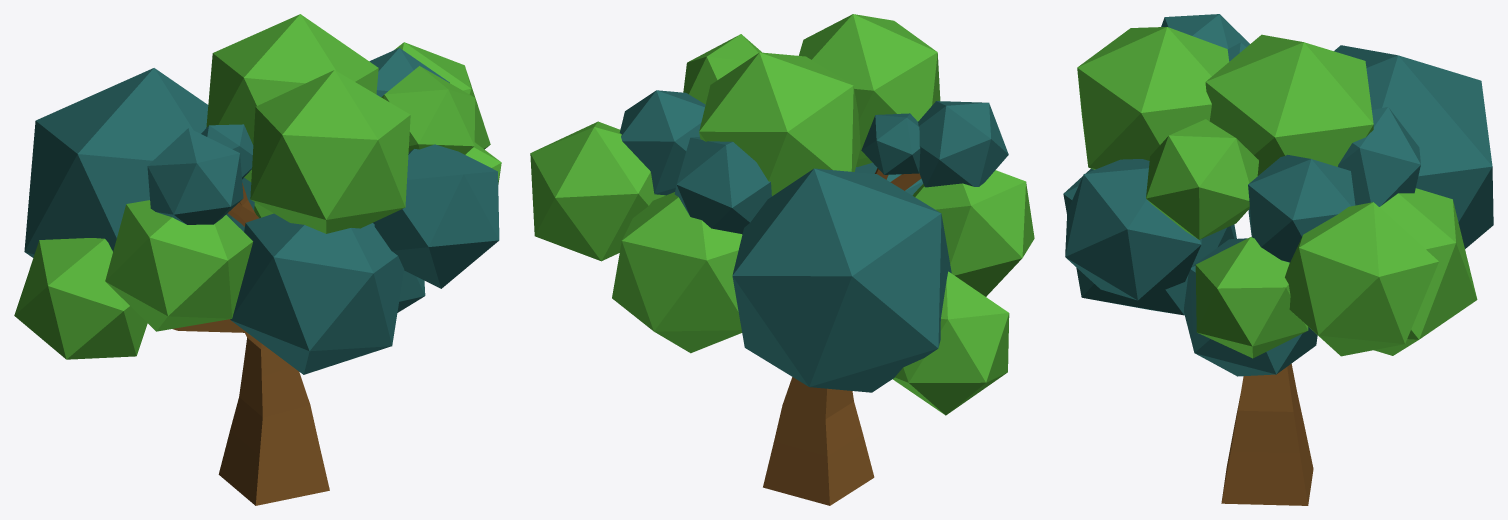
Rendered from tree.fbx.
3 renders of one model, left to right at view 1: azimuth 30°, elevation 25°; view 2: azimuth 150°, elevation 25°; view 3: azimuth 270°, elevation 25°, orthographic. The views are drawn at different scales.
Parts seen in each view (by area): view 1: Icosphere.011, Icosphere.012, Icosphere.006, Icosphere.009, Cube, Icosphere.010, Icosphere.002, Icosphere.005, Icosphere.003, Icosphere.013, Icosphere, Icosphere.001 (+2 smaller); view 2: Icosphere.006, Icosphere.005, Icosphere.007, Icosphere, Cube, Icosphere.011, Icosphere.009, Icosphere.002, Icosphere.014, Icosphere.003, Icosphere.001, Icosphere.004 (+1 smaller); view 3: Icosphere.005, Icosphere, Icosphere.011, Icosphere.006, Icosphere.010, Cube, Icosphere.013, Icosphere.015, Icosphere.001, Icosphere.007, Icosphere.014, Icosphere.008 (+2 smaller).
Boxes of the visible parts, bbox=[...] form: Icosphere.011: bbox=[250, 70, 410, 233]; Icosphere.012: bbox=[230, 213, 404, 374]; Icosphere.006: bbox=[24, 68, 254, 257]; Icosphere.009: bbox=[105, 200, 252, 331]; Cube: bbox=[173, 183, 329, 505]; Icosphere.010: bbox=[373, 144, 499, 288]; Icosphere.002: bbox=[14, 238, 147, 359]; Icosphere.005: bbox=[206, 14, 378, 181]; Icosphere.003: bbox=[147, 128, 243, 224]; Icosphere.013: bbox=[381, 66, 475, 154]; Icosphere: bbox=[394, 42, 490, 149]; Icosphere.001: bbox=[369, 48, 449, 96]; Icosphere.006: bbox=[732, 168, 951, 392]; Icosphere.005: bbox=[699, 52, 860, 196]; Icosphere.007: bbox=[612, 192, 742, 353]; Icosphere: bbox=[530, 121, 665, 261]; Cube: bbox=[763, 168, 921, 505]; Icosphere.011: bbox=[798, 14, 940, 166]; Icosphere.009: bbox=[912, 170, 1034, 296]; Icosphere.002: bbox=[893, 271, 1009, 415]; Icosphere.014: bbox=[674, 136, 771, 234]; Icosphere.003: bbox=[918, 101, 1008, 187]; Icosphere.001: bbox=[619, 90, 705, 195]; Icosphere.004: bbox=[861, 113, 920, 174]; Icosphere.005: bbox=[1205, 34, 1373, 175]; Icosphere: bbox=[1285, 202, 1438, 356]; Icosphere.011: bbox=[1077, 27, 1229, 169]; Icosphere.006: bbox=[1334, 45, 1493, 248]; Icosphere.010: bbox=[1065, 159, 1201, 300]; Cube: bbox=[1221, 363, 1313, 505]; Icosphere.013: bbox=[1146, 119, 1258, 239]; Icosphere.015: bbox=[1195, 237, 1308, 358]; Icosphere.001: bbox=[1248, 154, 1355, 262]; Icosphere.007: bbox=[1374, 188, 1477, 355]; Icosphere.014: bbox=[1338, 107, 1420, 206]; Icosphere.008: bbox=[1184, 238, 1317, 376].
Size of the model in its own units: 700 by 648 by 542.
